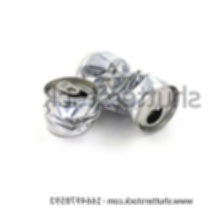can: (73, 43, 182, 136), (38, 73, 102, 140)
